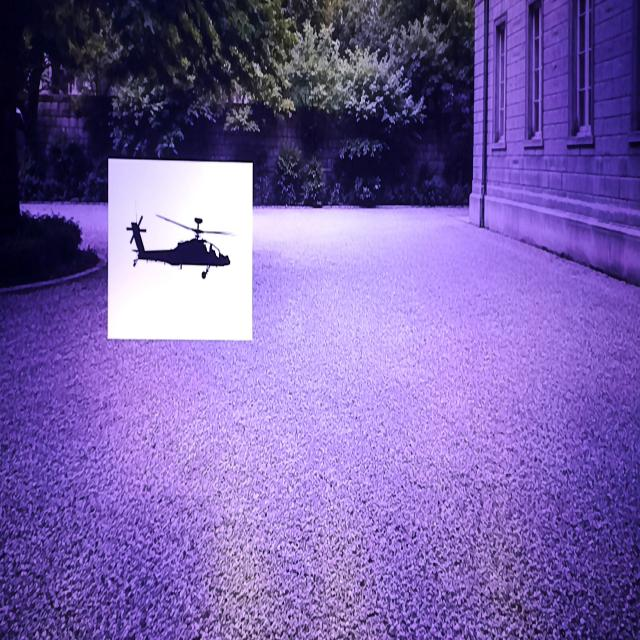Apache friendly: (127, 215, 232, 279)
